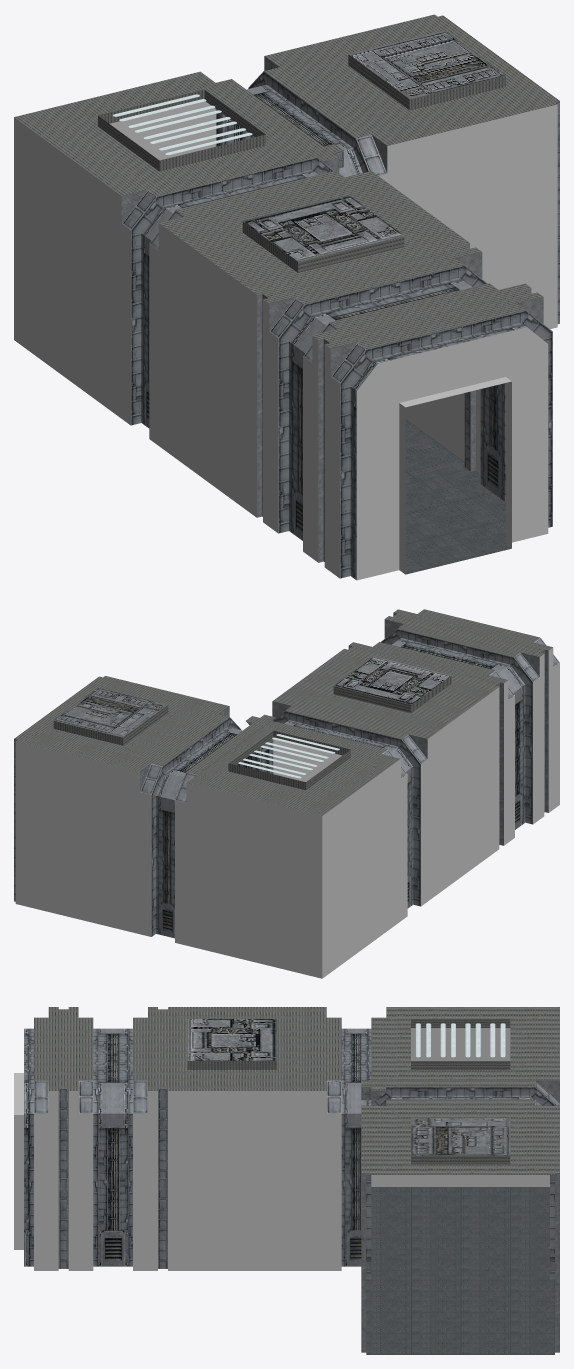
Rendered from poi_all_impl_bunker_research_facility_s01_r17_hall_mesh.fbx.
The picture shows the model from 3 angles, top to bottom: view 1: azimuth 30°, elevation 25°; view 2: azimuth 150°, elevation 25°; view 3: azimuth 270°, elevation 25°; orthographic projection. The views are drawn at different scales.
Visible parts, largest first — view 1: mesh_node; view 2: mesh_node; view 3: mesh_node.
Part boxes in pixels (left/top/right/bottom): mesh_node: left=14, top=14, right=559, bottom=580; mesh_node: left=14, top=609, right=559, bottom=978; mesh_node: left=14, top=1007, right=559, bottom=1354.
Size of the model in its own units: 8 by 4.2 by 11.
